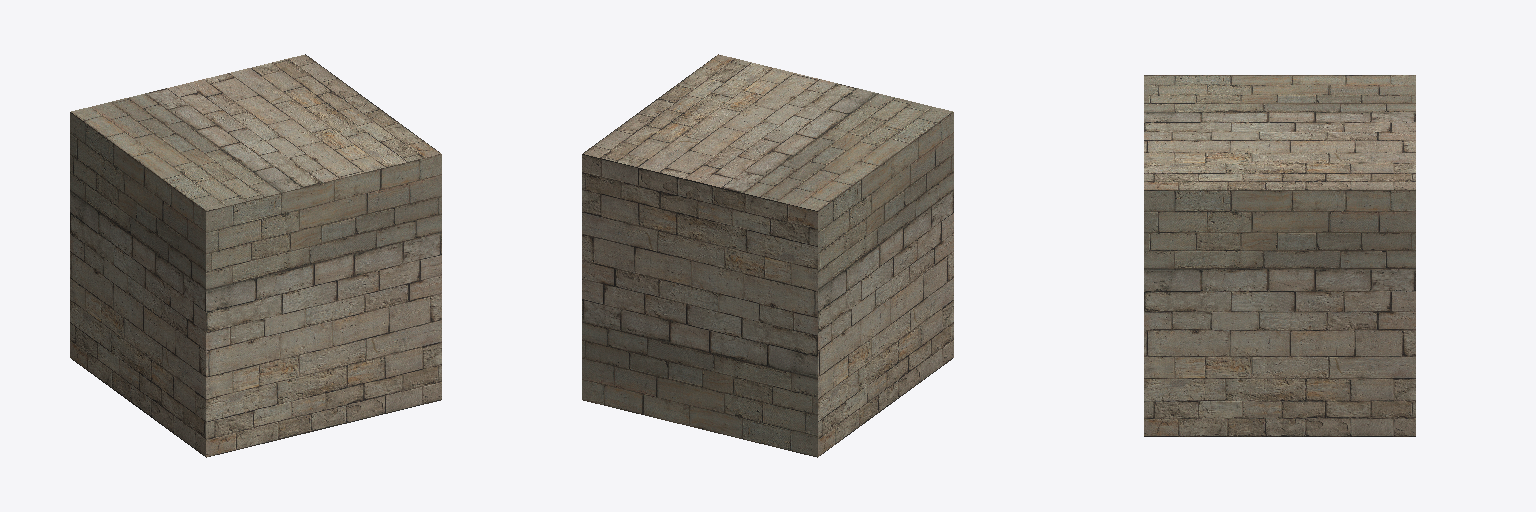
The picture shows the model from 3 angles: view 1: azimuth 30°, elevation 25°; view 2: azimuth 150°, elevation 25°; view 3: azimuth 270°, elevation 25°; orthographic projection.
Parts seen in each view (by area): view 1: Cube; view 2: Cube; view 3: Cube.
Part boxes in pixels (bbox=[...]): Cube: bbox=[70, 54, 441, 457]; Cube: bbox=[582, 54, 953, 457]; Cube: bbox=[1144, 75, 1415, 436].
Bounding box in the file's own units: 2 × 2 × 2.
Materials: 1 (1 with a texture image).